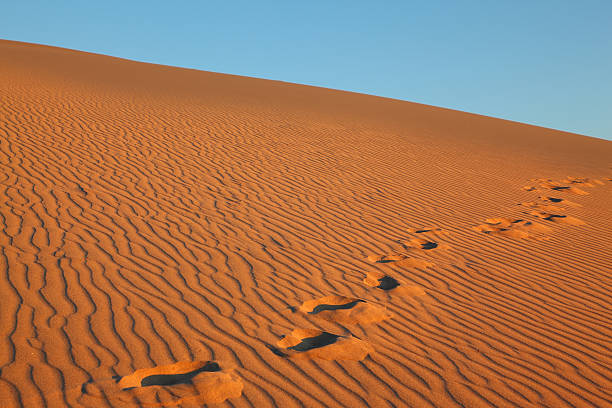human_foot_print: (473, 177, 603, 238), (79, 361, 243, 406), (268, 329, 373, 360), (367, 227, 446, 267), (299, 295, 392, 324), (472, 217, 551, 238), (363, 271, 425, 296), (523, 176, 604, 194), (398, 227, 447, 250), (367, 253, 433, 268), (529, 210, 585, 225), (538, 196, 581, 207), (400, 237, 438, 249)
